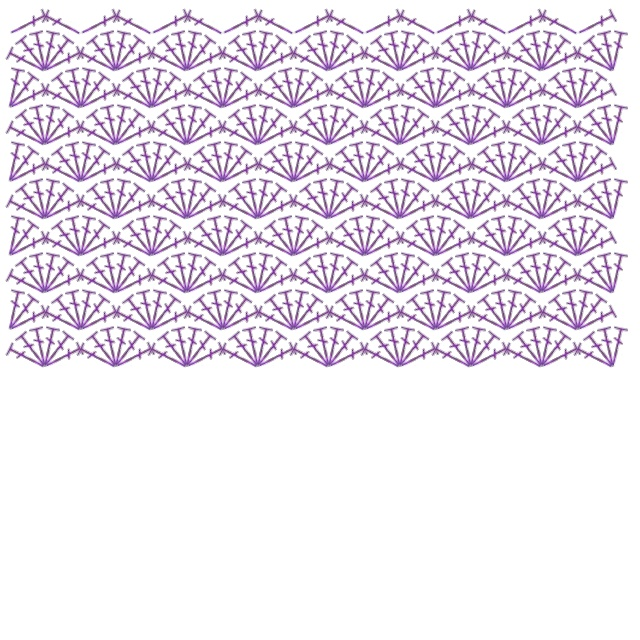double treble: (14, 34, 51, 75), (39, 34, 76, 75), (85, 34, 122, 75), (110, 34, 147, 75), (156, 34, 193, 75), (181, 34, 218, 75), (227, 34, 264, 75), (252, 34, 289, 75), (298, 34, 335, 75), (323, 34, 360, 75), (369, 34, 406, 75), (394, 34, 431, 75), (440, 34, 477, 75), (465, 34, 502, 75), (511, 34, 548, 75), (536, 34, 573, 75), (582, 34, 619, 75), (4, 71, 41, 112), (50, 71, 87, 112), (75, 71, 112, 112), (121, 71, 158, 112), (146, 71, 183, 112), (192, 71, 229, 112), (217, 71, 254, 112), (263, 71, 300, 112), (288, 71, 325, 112), (334, 71, 371, 112), (359, 71, 396, 112), (405, 71, 442, 112), (430, 71, 467, 112), (476, 71, 513, 112), (501, 71, 538, 112), (547, 71, 584, 112), (572, 71, 609, 112), (14, 108, 51, 149), (39, 108, 76, 149), (85, 108, 122, 149), (110, 108, 147, 149), (156, 108, 193, 149), (181, 108, 218, 149), (227, 108, 264, 149), (252, 108, 289, 149), (298, 108, 335, 149), (323, 108, 360, 149), (369, 108, 406, 149), (394, 108, 431, 149), (440, 108, 477, 149), (465, 108, 502, 149), (511, 108, 548, 149), (536, 108, 573, 149), (582, 108, 619, 149), (4, 145, 41, 186), (50, 145, 87, 186), (75, 145, 112, 186), (121, 145, 158, 186), (146, 145, 183, 186), (192, 145, 229, 186), (217, 145, 254, 186), (263, 145, 300, 186), (288, 145, 325, 186), (334, 145, 371, 186), (359, 145, 396, 186), (405, 145, 442, 186), (430, 145, 467, 186), (476, 145, 513, 186), (501, 145, 538, 186), (547, 145, 584, 186), (572, 145, 609, 186), (14, 182, 51, 223), (39, 182, 76, 223), (85, 182, 122, 223), (110, 182, 147, 223), (156, 182, 193, 223), (181, 182, 218, 223), (227, 182, 264, 223), (252, 182, 289, 223), (298, 182, 335, 223), (323, 182, 360, 223), (369, 182, 406, 223), (394, 182, 431, 223), (440, 182, 477, 223), (465, 182, 502, 223), (511, 182, 548, 223), (536, 182, 573, 223), (582, 182, 619, 223), (4, 219, 41, 260), (50, 219, 87, 260), (75, 219, 112, 260), (121, 219, 158, 260), (146, 219, 183, 260), (192, 219, 229, 260), (217, 219, 254, 260), (263, 219, 300, 260), (288, 219, 325, 260), (334, 219, 371, 260), (359, 219, 396, 260), (405, 219, 442, 260), (430, 219, 467, 260), (476, 219, 513, 260), (501, 219, 538, 260), (547, 219, 584, 260), (572, 219, 609, 260), (14, 256, 51, 297), (39, 256, 76, 297), (85, 256, 122, 297), (110, 256, 147, 297), (156, 256, 193, 297), (181, 256, 218, 297), (227, 256, 264, 297), (252, 256, 289, 297), (298, 256, 335, 297), (323, 256, 360, 297), (369, 256, 406, 297), (394, 256, 431, 297), (440, 256, 477, 297), (465, 256, 502, 297), (511, 256, 548, 297), (536, 256, 573, 297), (582, 256, 619, 297), (4, 293, 41, 334), (50, 293, 87, 334), (75, 293, 112, 334), (121, 293, 158, 334), (146, 293, 183, 334), (192, 293, 229, 334), (217, 293, 254, 334), (263, 293, 300, 334), (288, 293, 325, 334), (334, 293, 371, 334), (359, 293, 396, 334), (405, 293, 442, 334), (430, 293, 467, 334), (476, 293, 513, 334), (501, 293, 538, 334), (547, 293, 584, 334), (572, 293, 609, 334), (14, 330, 51, 371), (39, 330, 76, 371), (85, 330, 122, 371), (110, 330, 147, 371), (156, 330, 193, 371), (181, 330, 218, 371), (227, 330, 264, 371), (252, 330, 289, 371), (298, 330, 335, 371), (323, 330, 360, 371), (369, 330, 406, 371), (394, 330, 431, 371), (440, 330, 477, 371), (465, 330, 502, 371), (511, 330, 548, 371), (536, 330, 573, 371), (582, 330, 619, 371), (7, 9, 51, 40), (40, 9, 84, 40), (78, 9, 122, 40), (111, 9, 155, 40), (149, 9, 193, 40), (182, 9, 226, 40), (220, 9, 264, 40), (253, 9, 297, 40), (291, 9, 335, 40), (324, 9, 368, 40), (362, 9, 406, 40), (395, 9, 439, 40), (433, 9, 477, 40), (466, 9, 510, 40), (504, 9, 548, 40), (537, 9, 581, 40), (575, 9, 619, 40), (4, 46, 48, 77), (42, 46, 86, 77), (75, 46, 119, 77), (113, 46, 157, 77), (146, 46, 190, 77), (184, 46, 228, 77), (217, 46, 261, 77), (255, 46, 299, 77), (288, 46, 332, 77), (326, 46, 370, 77), (359, 46, 403, 77), (397, 46, 441, 77), (430, 46, 474, 77), (468, 46, 512, 77), (501, 46, 545, 77), (539, 46, 583, 77), (572, 46, 616, 77), (7, 83, 51, 114), (40, 83, 84, 114), (78, 83, 122, 114), (111, 83, 155, 114), (149, 83, 193, 114), (182, 83, 226, 114), (220, 83, 264, 114), (253, 83, 297, 114), (291, 83, 335, 114), (324, 83, 368, 114), (362, 83, 406, 114), (395, 83, 439, 114), (433, 83, 477, 114), (466, 83, 510, 114), (504, 83, 548, 114), (537, 83, 581, 114), (575, 83, 619, 114), (4, 120, 48, 151), (42, 120, 86, 151), (75, 120, 119, 151), (113, 120, 157, 151), (146, 120, 190, 151), (184, 120, 228, 151), (217, 120, 261, 151), (255, 120, 299, 151), (288, 120, 332, 151), (326, 120, 370, 151), (359, 120, 403, 151), (397, 120, 441, 151), (430, 120, 474, 151), (468, 120, 512, 151), (501, 120, 545, 151), (539, 120, 583, 151), (572, 120, 616, 151), (7, 157, 51, 188), (40, 157, 84, 188), (78, 157, 122, 188), (111, 157, 155, 188), (149, 157, 193, 188), (182, 157, 226, 188), (220, 157, 264, 188), (253, 157, 297, 188), (291, 157, 335, 188), (324, 157, 368, 188), (362, 157, 406, 188), (395, 157, 439, 188), (433, 157, 477, 188), (466, 157, 510, 188), (504, 157, 548, 188), (537, 157, 581, 188), (575, 157, 619, 188), (4, 194, 48, 225), (42, 194, 86, 225), (75, 194, 119, 225), (113, 194, 157, 225), (146, 194, 190, 225), (184, 194, 228, 225), (217, 194, 261, 225), (255, 194, 299, 225), (288, 194, 332, 225), (326, 194, 370, 225), (359, 194, 403, 225), (397, 194, 441, 225), (430, 194, 474, 225), (468, 194, 512, 225), (501, 194, 545, 225), (539, 194, 583, 225), (572, 194, 616, 225), (7, 231, 51, 262), (40, 231, 84, 262), (78, 231, 122, 262), (111, 231, 155, 262), (149, 231, 193, 262), (182, 231, 226, 262), (220, 231, 264, 262), (253, 231, 297, 262), (291, 231, 335, 262), (324, 231, 368, 262), (362, 231, 406, 262), (395, 231, 439, 262), (433, 231, 477, 262), (466, 231, 510, 262), (504, 231, 548, 262), (537, 231, 581, 262), (575, 231, 619, 262), (4, 268, 48, 299), (42, 268, 86, 299), (75, 268, 119, 299), (113, 268, 157, 299), (146, 268, 190, 299), (184, 268, 228, 299), (217, 268, 261, 299), (255, 268, 299, 299), (288, 268, 332, 299), (326, 268, 370, 299), (359, 268, 403, 299), (397, 268, 441, 299), (430, 268, 474, 299), (468, 268, 512, 299), (501, 268, 545, 299), (539, 268, 583, 299), (572, 268, 616, 299), (7, 305, 51, 336), (40, 305, 84, 336), (78, 305, 122, 336), (111, 305, 155, 336), (149, 305, 193, 336), (182, 305, 226, 336), (220, 305, 264, 336), (253, 305, 297, 336), (291, 305, 335, 336), (324, 305, 368, 336), (362, 305, 406, 336), (395, 305, 439, 336), (433, 305, 477, 336), (466, 305, 510, 336), (504, 305, 548, 336), (537, 305, 581, 336), (575, 305, 619, 336), (4, 342, 48, 373), (42, 342, 86, 373), (75, 342, 119, 373), (113, 342, 157, 373), (146, 342, 190, 373), (184, 342, 228, 373), (217, 342, 261, 373), (255, 342, 299, 373), (288, 342, 332, 373), (326, 342, 370, 373), (359, 342, 403, 373), (397, 342, 441, 373), (430, 342, 474, 373), (468, 342, 512, 373), (501, 342, 545, 373), (539, 342, 583, 373), (572, 342, 616, 373), (29, 28, 52, 73), (38, 28, 61, 73), (100, 28, 123, 73), (109, 28, 132, 73), (171, 28, 194, 73), (180, 28, 203, 73), (242, 28, 265, 73), (251, 28, 274, 73), (313, 28, 336, 73), (322, 28, 345, 73), (384, 28, 407, 73), (393, 28, 416, 73), (455, 28, 478, 73), (464, 28, 487, 73), (526, 28, 549, 73), (535, 28, 558, 73), (597, 28, 620, 73), (606, 28, 629, 73), (3, 65, 26, 110), (65, 65, 88, 110), (74, 65, 97, 110), (136, 65, 159, 110), (145, 65, 168, 110), (207, 65, 230, 110), (216, 65, 239, 110), (278, 65, 301, 110), (287, 65, 310, 110), (349, 65, 372, 110), (358, 65, 381, 110), (420, 65, 443, 110), (429, 65, 452, 110), (491, 65, 514, 110), (500, 65, 523, 110), (562, 65, 585, 110), (571, 65, 594, 110), (29, 102, 52, 147), (38, 102, 61, 147), (100, 102, 123, 147), (109, 102, 132, 147), (171, 102, 194, 147), (180, 102, 203, 147), (242, 102, 265, 147), (251, 102, 274, 147), (313, 102, 336, 147), (322, 102, 345, 147), (384, 102, 407, 147), (393, 102, 416, 147), (455, 102, 478, 147), (464, 102, 487, 147), (526, 102, 549, 147), (535, 102, 558, 147), (597, 102, 620, 147), (606, 102, 629, 147), (3, 139, 26, 184), (65, 139, 88, 184), (74, 139, 97, 184), (136, 139, 159, 184), (145, 139, 168, 184), (207, 139, 230, 184), (216, 139, 239, 184), (278, 139, 301, 184), (287, 139, 310, 184), (349, 139, 372, 184), (358, 139, 381, 184), (420, 139, 443, 184), (429, 139, 452, 184), (491, 139, 514, 184), (500, 139, 523, 184), (562, 139, 585, 184), (571, 139, 594, 184), (29, 176, 52, 221), (38, 176, 61, 221), (100, 176, 123, 221), (109, 176, 132, 221), (171, 176, 194, 221), (180, 176, 203, 221), (242, 176, 265, 221), (251, 176, 274, 221), (313, 176, 336, 221), (322, 176, 345, 221), (384, 176, 407, 221), (393, 176, 416, 221), (455, 176, 478, 221), (464, 176, 487, 221), (526, 176, 549, 221), (535, 176, 558, 221), (597, 176, 620, 221), (606, 176, 629, 221), (3, 213, 26, 258), (65, 213, 88, 258), (74, 213, 97, 258), (136, 213, 159, 258), (145, 213, 168, 258), (207, 213, 230, 258), (216, 213, 239, 258), (278, 213, 301, 258), (287, 213, 310, 258), (349, 213, 372, 258), (358, 213, 381, 258), (420, 213, 443, 258), (429, 213, 452, 258), (491, 213, 514, 258), (500, 213, 523, 258), (562, 213, 585, 258), (571, 213, 594, 258), (29, 250, 52, 295), (38, 250, 61, 295), (100, 250, 123, 295), (109, 250, 132, 295), (171, 250, 194, 295), (180, 250, 203, 295), (242, 250, 265, 295), (251, 250, 274, 295), (313, 250, 336, 295), (322, 250, 345, 295), (384, 250, 407, 295), (393, 250, 416, 295), (455, 250, 478, 295), (464, 250, 487, 295), (526, 250, 549, 295), (535, 250, 558, 295), (597, 250, 620, 295), (606, 250, 629, 295), (3, 287, 26, 332), (65, 287, 88, 332), (74, 287, 97, 332), (136, 287, 159, 332), (145, 287, 168, 332), (207, 287, 230, 332), (216, 287, 239, 332), (278, 287, 301, 332), (287, 287, 310, 332), (349, 287, 372, 332), (358, 287, 381, 332), (420, 287, 443, 332), (429, 287, 452, 332), (491, 287, 514, 332), (500, 287, 523, 332), (562, 287, 585, 332), (571, 287, 594, 332), (29, 324, 52, 369), (38, 324, 61, 369), (100, 324, 123, 369), (109, 324, 132, 369), (171, 324, 194, 369), (180, 324, 203, 369), (242, 324, 265, 369), (251, 324, 274, 369), (313, 324, 336, 369), (322, 324, 345, 369), (384, 324, 407, 369), (393, 324, 416, 369), (455, 324, 478, 369), (464, 324, 487, 369), (526, 324, 549, 369), (535, 324, 558, 369), (597, 324, 620, 369), (606, 324, 629, 369)
